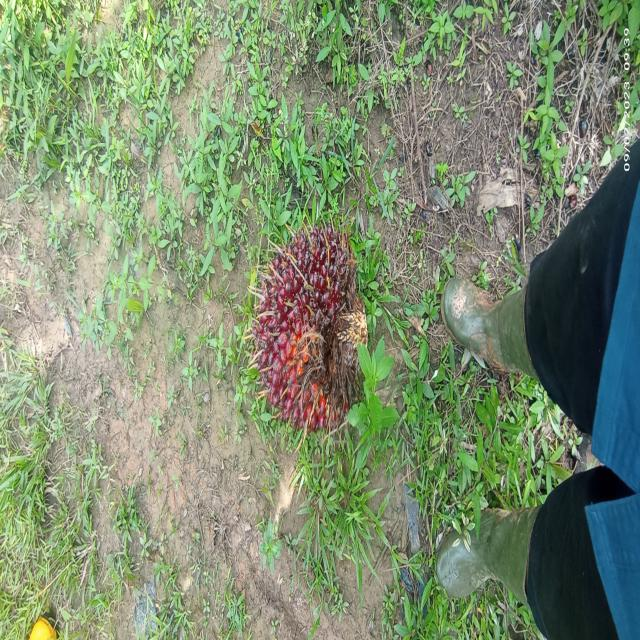fraksi 3: (235, 170, 382, 478)
